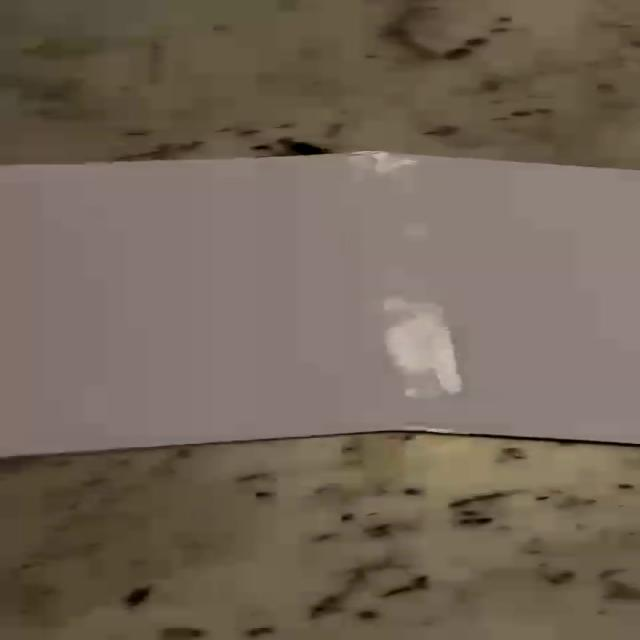road: (5, 152, 637, 457)
